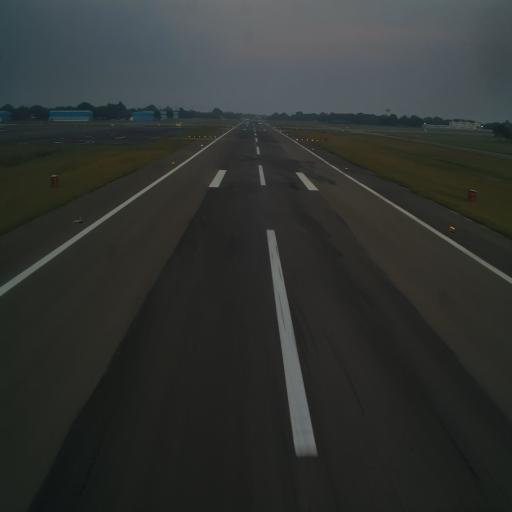off: (71, 211, 84, 229)
on: (448, 222, 457, 234)
